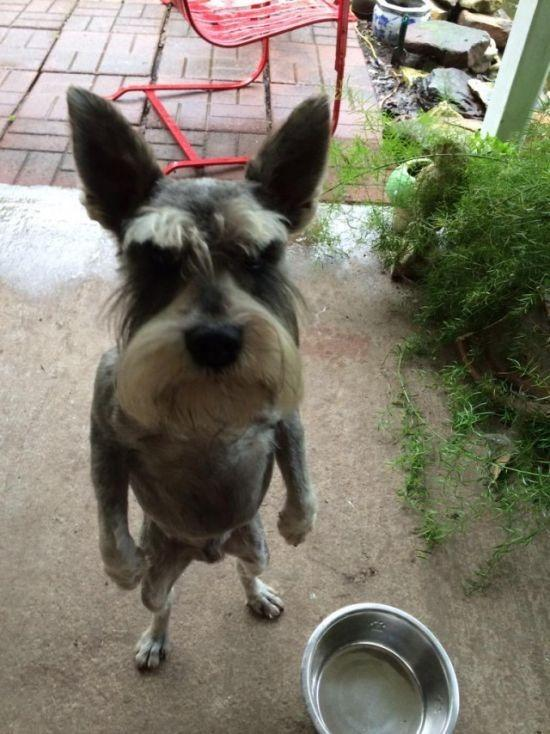adult_dog: (66, 84, 331, 675)
